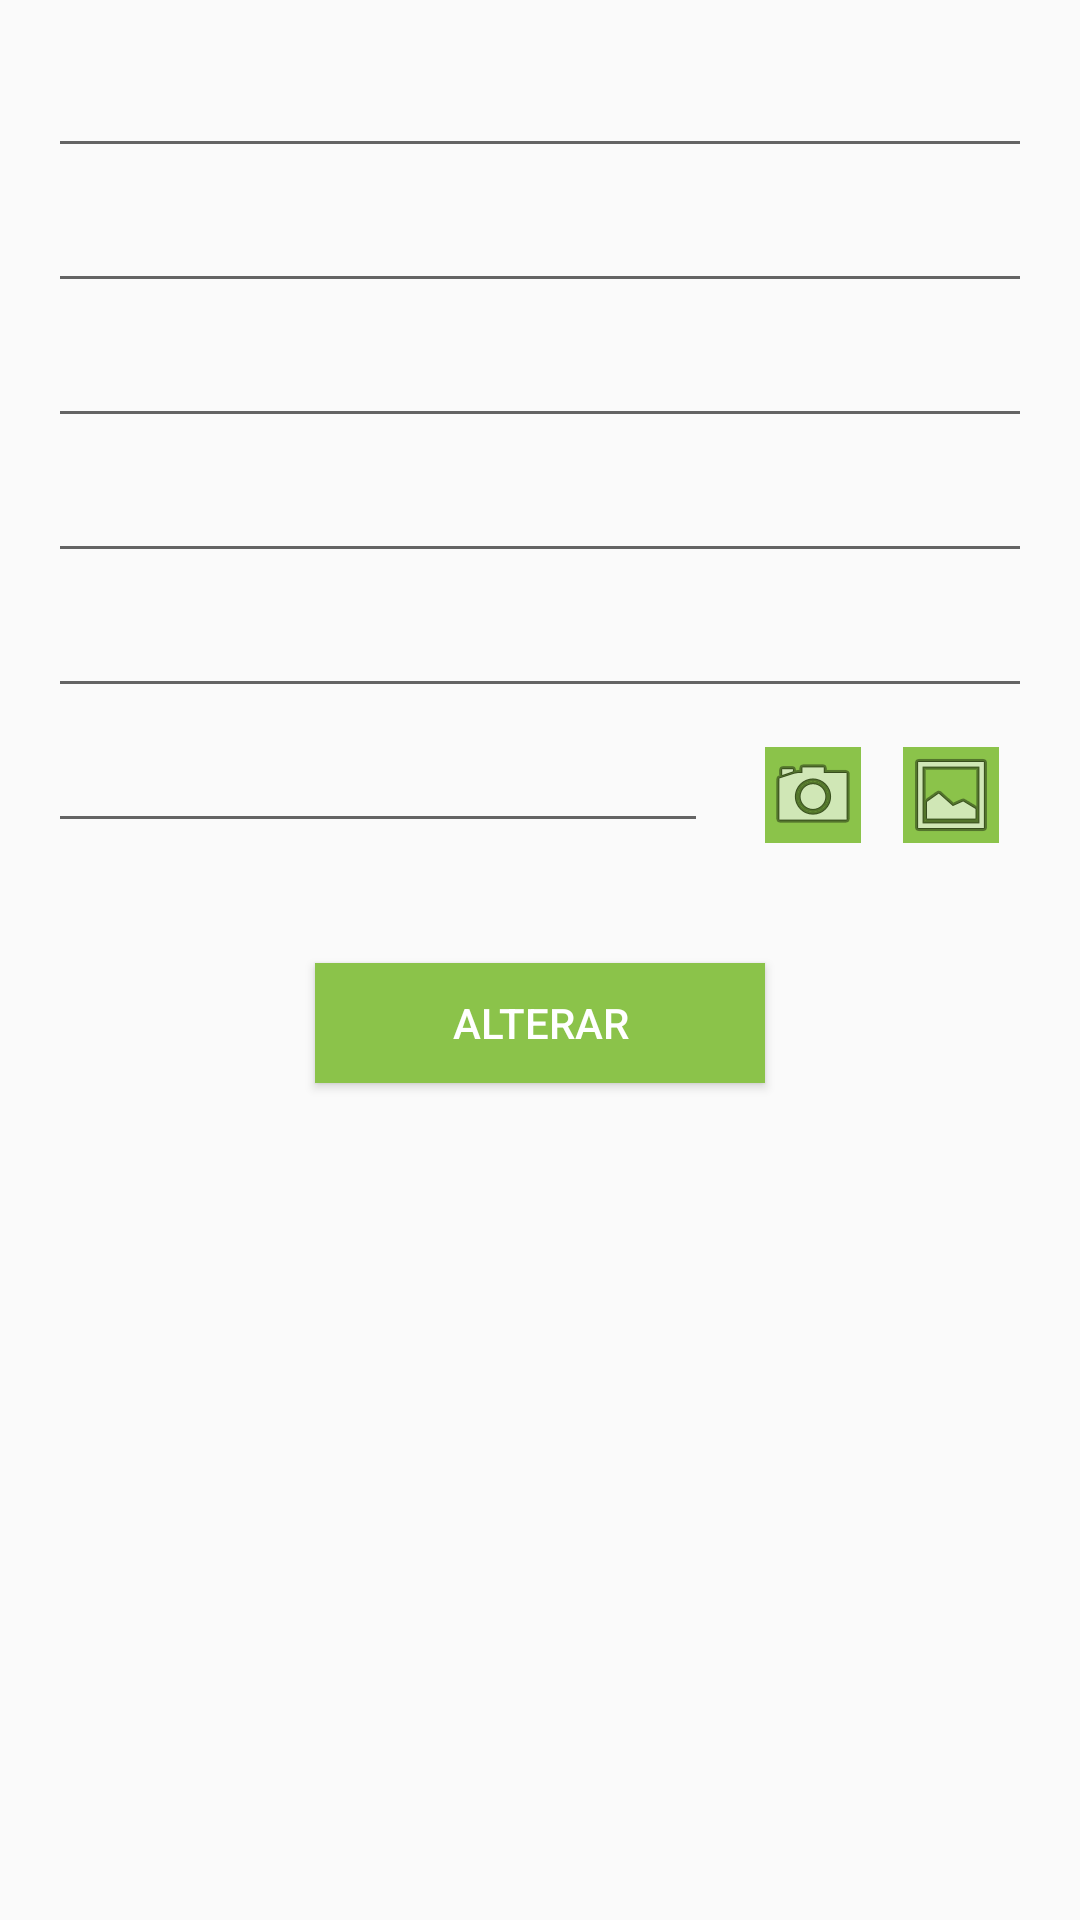

Icon bounding boxes for this 1080px x 1920px phone screenshot, format (x1, y1, x2, y2):
camera: (765, 747, 861, 843)
gallery: (903, 747, 999, 843)
